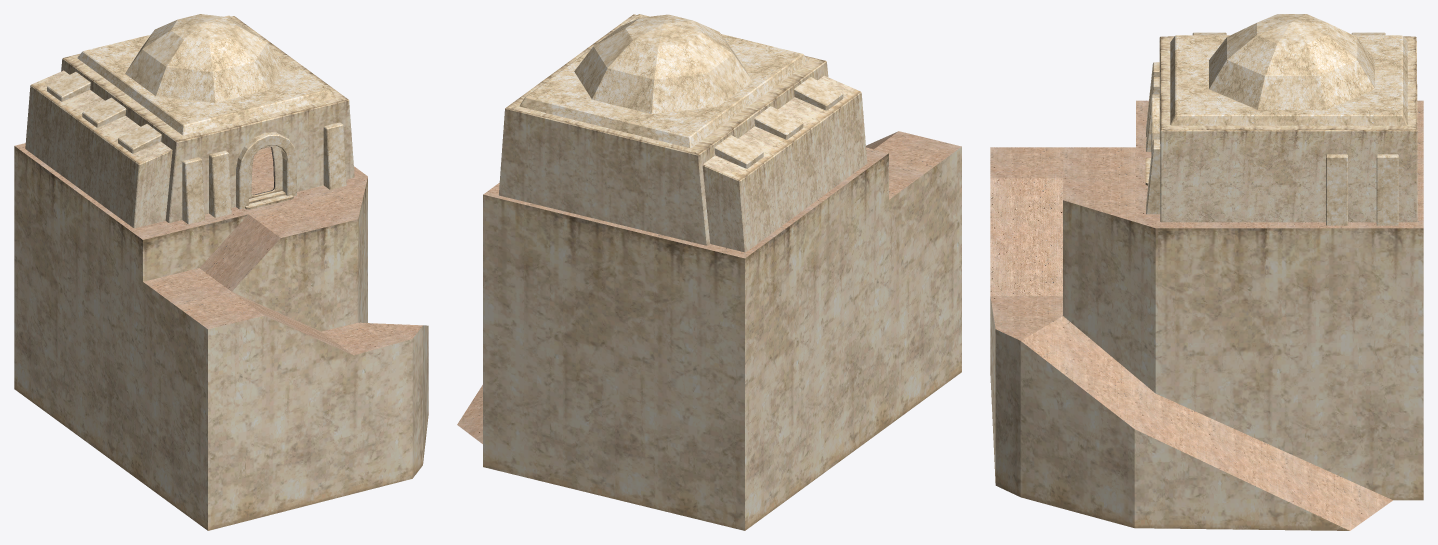
File: ply_tato_house_sm_s02_fp1_r0_mesh_l1.fbx
The picture shows the model from 3 angles, left to right: view 1: azimuth 30°, elevation 25°; view 2: azimuth 150°, elevation 25°; view 3: azimuth 270°, elevation 25°; orthographic projection. The views are drawn at different scales.
Visible parts, largest first — view 1: mesh_node; view 2: mesh_node; view 3: mesh_node.
Boxes of the visible parts, box(x1,y1,x2,y2) form: mesh_node: box(14, 14, 428, 530); mesh_node: box(457, 14, 961, 530); mesh_node: box(990, 14, 1423, 530).
Bounding box in the file's own units: 20.58 × 25.63 × 23.82.
